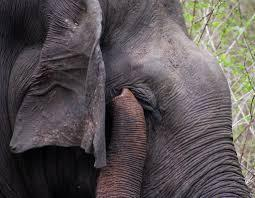elephant: (0, 0, 249, 197)
